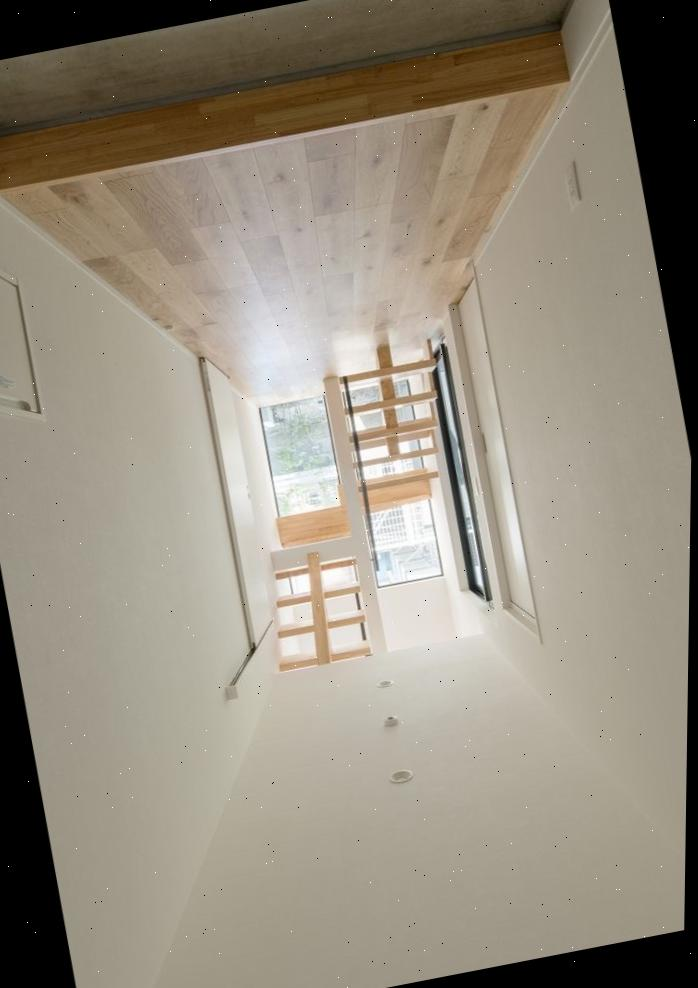floor: (0, 0, 567, 129)
safe: (0, 80, 569, 407)
